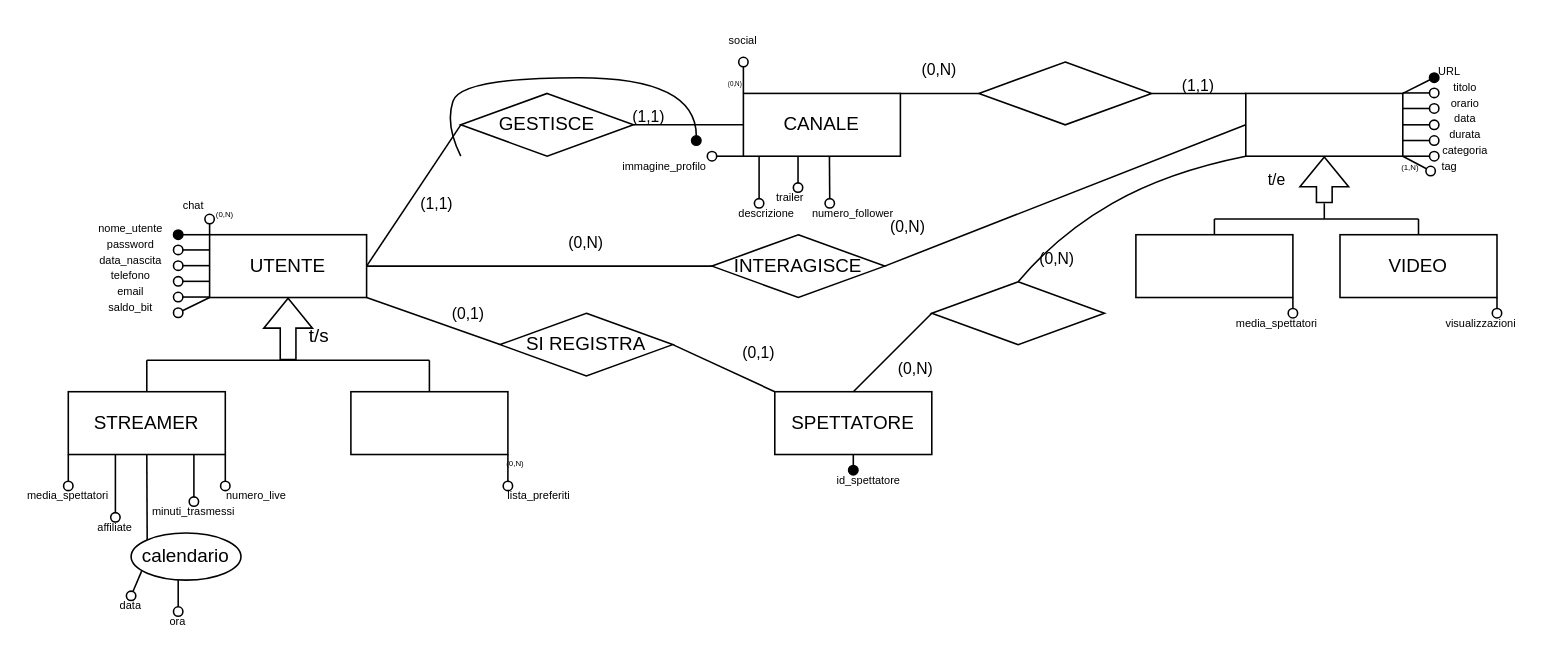
This 1543x656 diagram has some shape labels left out. The centre of each missing label's shape, as x and y in pixels:
"CONDIVIDE" goes at [1064,92].
"CONTENUTI" goes at [1323,124].
"GUARDA" goes at [1017,312].
"LIVE" goes at [1213,265].
"VIEWER" goes at [428,422].
